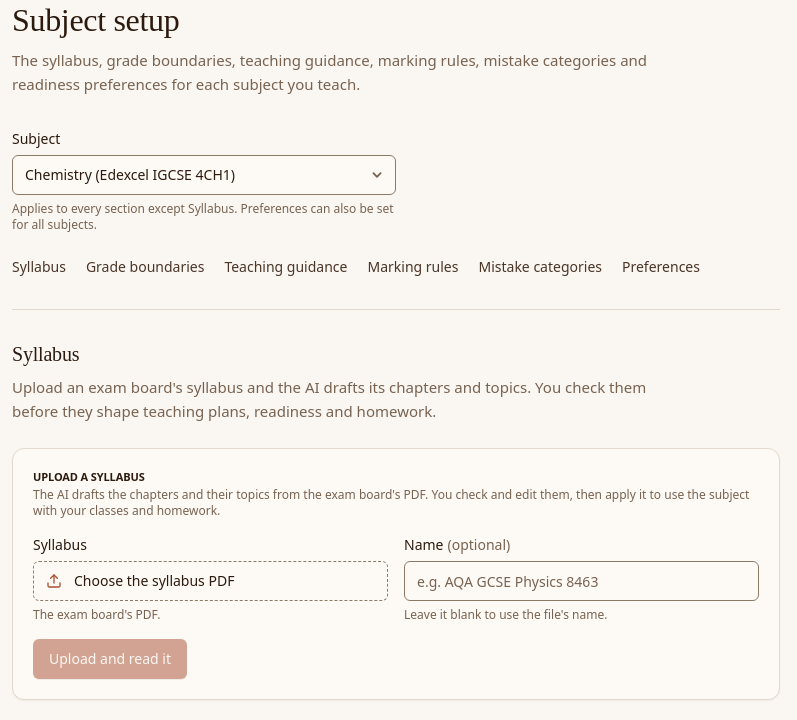
it: each section says whether its value is the default, for the selected subject
The image size is (797, 720).
// Switching subject switches the labels.
Select "Physics (Edexcel IGCSE 4PH1)" in the dropdown labelled "Subject": (204, 175) [12,155,396,195]
(page scrolled)
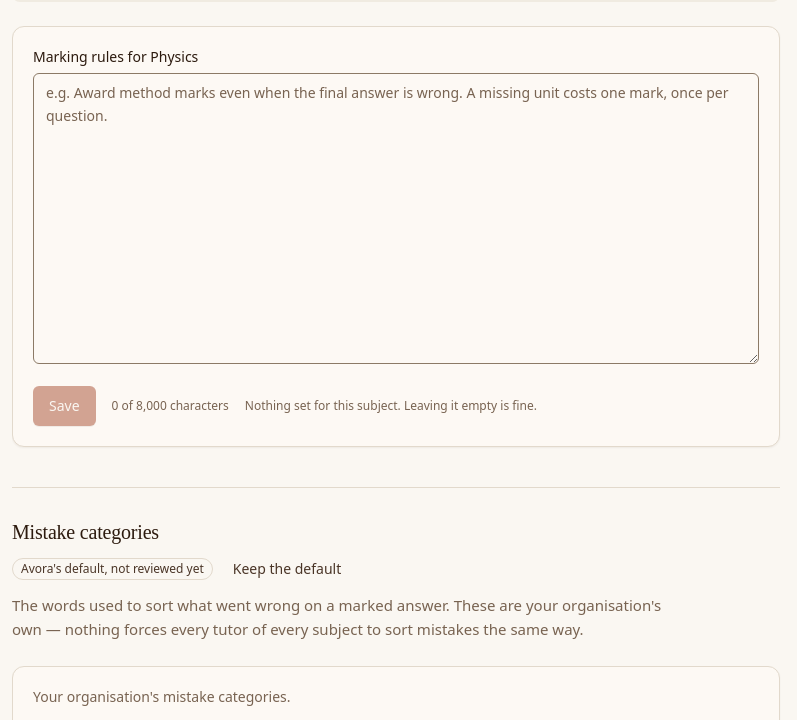
Expected: the text "Avora's default, not reviewed yet" is shown, [12,558,213,580]
